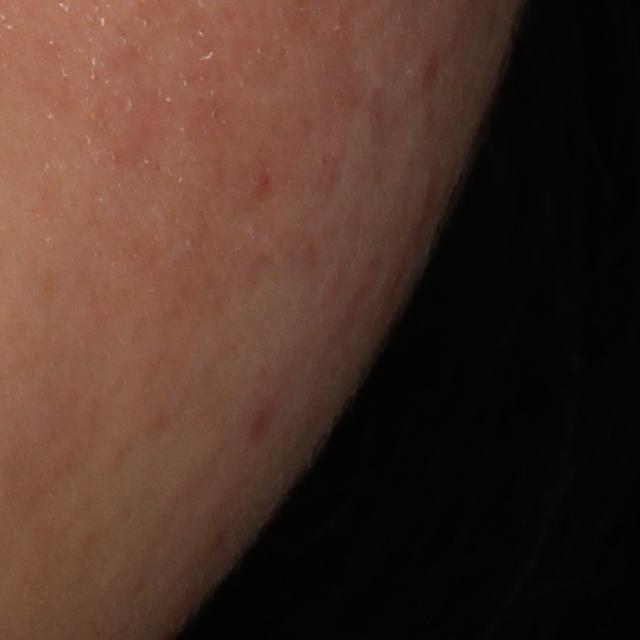papule: (243, 396, 281, 436)
